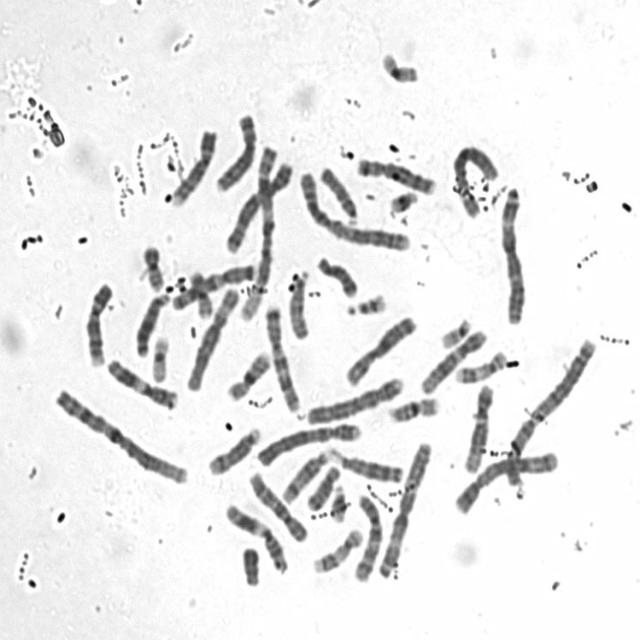A1: (50, 383, 192, 487), (236, 140, 284, 326)
A2: (499, 332, 601, 491), (296, 164, 414, 253)
A3: (375, 436, 435, 580), (496, 180, 530, 326)
B4: (254, 416, 364, 468), (303, 372, 405, 426)
B5: (451, 444, 562, 516), (220, 155, 294, 255)
C10: (244, 466, 311, 544), (350, 487, 386, 584)
C11: (222, 498, 292, 575), (102, 352, 180, 412)
C12: (417, 323, 490, 395), (460, 378, 496, 475)
C6: (183, 280, 242, 392), (448, 140, 501, 220)
C7: (169, 259, 259, 312), (260, 301, 302, 414)
C8: (212, 108, 259, 195), (353, 152, 438, 196)
C9: (168, 123, 219, 208), (81, 277, 115, 368)
D13: (326, 444, 406, 484), (132, 286, 172, 358)
D14: (277, 444, 333, 504), (204, 422, 263, 476)
D15: (316, 162, 362, 226), (284, 266, 312, 341)
E16: (223, 346, 273, 402), (384, 391, 442, 424)
E17: (308, 523, 364, 575), (451, 345, 508, 385)
E18: (312, 250, 360, 299), (303, 460, 343, 512)
F19: (377, 45, 422, 85), (147, 330, 172, 384)
F20: (138, 240, 166, 294), (186, 266, 214, 320)
G21: (386, 184, 420, 216), (328, 479, 350, 524)
G22: (436, 312, 474, 351), (342, 288, 389, 318)
X: (340, 309, 420, 389)
Y: (238, 541, 262, 588)
